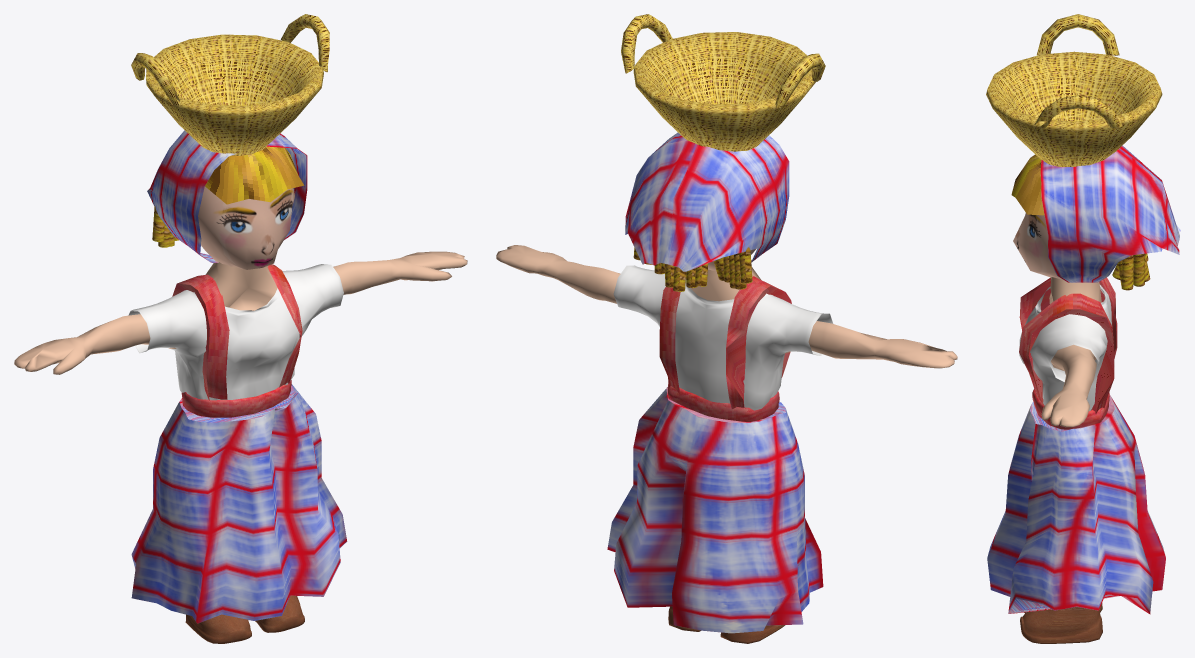
The model's file is farmGirl[1].FBX.
3 views of the same model, side by side, from view 1: azimuth 30°, elevation 25°; view 2: azimuth 150°, elevation 25°; view 3: azimuth 270°, elevation 25° (orthographic). The views are drawn at different scales.
Parts seen in each view (by area): view 1: skirt, Sphere01, t-shirt, boy02, scarf, Head, suspenders, femaleHair, skirtHem, shoe_R, Torus01, Torus02 (+1 smaller); view 2: skirt, scarf, Sphere01, t-shirt, boy02, suspenders, skirtHem, Torus01, Torus02; view 3: skirt, Sphere01, scarf, suspenders, t-shirt, boy02, shoe_L, Head, Torus02, femaleHair, Torus01, skirtHem (+2 smaller).
Boxes of the visible parts, x1=… form: skirt: x1=131, y1=384, x2=347, y2=623; Sphere01: x1=146, y1=34, x2=323, y2=155; t-shirt: x1=128, y1=264, x2=343, y2=401; boy02: x1=14, y1=251, x2=467, y2=399; scarf: x1=147, y1=130, x2=307, y2=262; Head: x1=198, y1=186, x2=294, y2=269; suspenders: x1=172, y1=264, x2=302, y2=400; femaleHair: x1=205, y1=146, x2=304, y2=204; skirtHem: x1=181, y1=380, x2=291, y2=417; shoe_R: x1=185, y1=614, x2=251, y2=643; Torus01: x1=281, y1=14, x2=329, y2=72; Torus02: x1=131, y1=53, x2=179, y2=106; skirt: x1=607, y1=387, x2=823, y2=633; scarf: x1=625, y1=132, x2=789, y2=271; Sphere01: x1=633, y1=32, x2=815, y2=151; t-shirt: x1=613, y1=265, x2=833, y2=410; boy02: x1=496, y1=245, x2=957, y2=368; suspenders: x1=659, y1=276, x2=791, y2=409; skirtHem: x1=667, y1=382, x2=779, y2=421; Torus01: x1=621, y1=14, x2=672, y2=73; Torus02: x1=775, y1=53, x2=825, y2=108; skirt: x1=987, y1=394, x2=1165, y2=614; Sphere01: x1=986, y1=51, x2=1162, y2=166; scarf: x1=1040, y1=145, x2=1180, y2=282; suspenders: x1=1019, y1=277, x2=1117, y2=413; t-shirt: x1=1019, y1=284, x2=1111, y2=410; boy02: x1=1041, y1=277, x2=1101, y2=427; shoe_L: x1=1020, y1=607, x2=1102, y2=643; Head: x1=1013, y1=212, x2=1062, y2=279; Torus02: x1=1036, y1=14, x2=1119, y2=55; femaleHair: x1=1011, y1=154, x2=1044, y2=215; Torus01: x1=1034, y1=95, x2=1122, y2=128; skirtHem: x1=1032, y1=389, x2=1109, y2=429.
Bounding box in the file's own units: 121 × 150 × 46.72.
8 materials, 8 textured.
